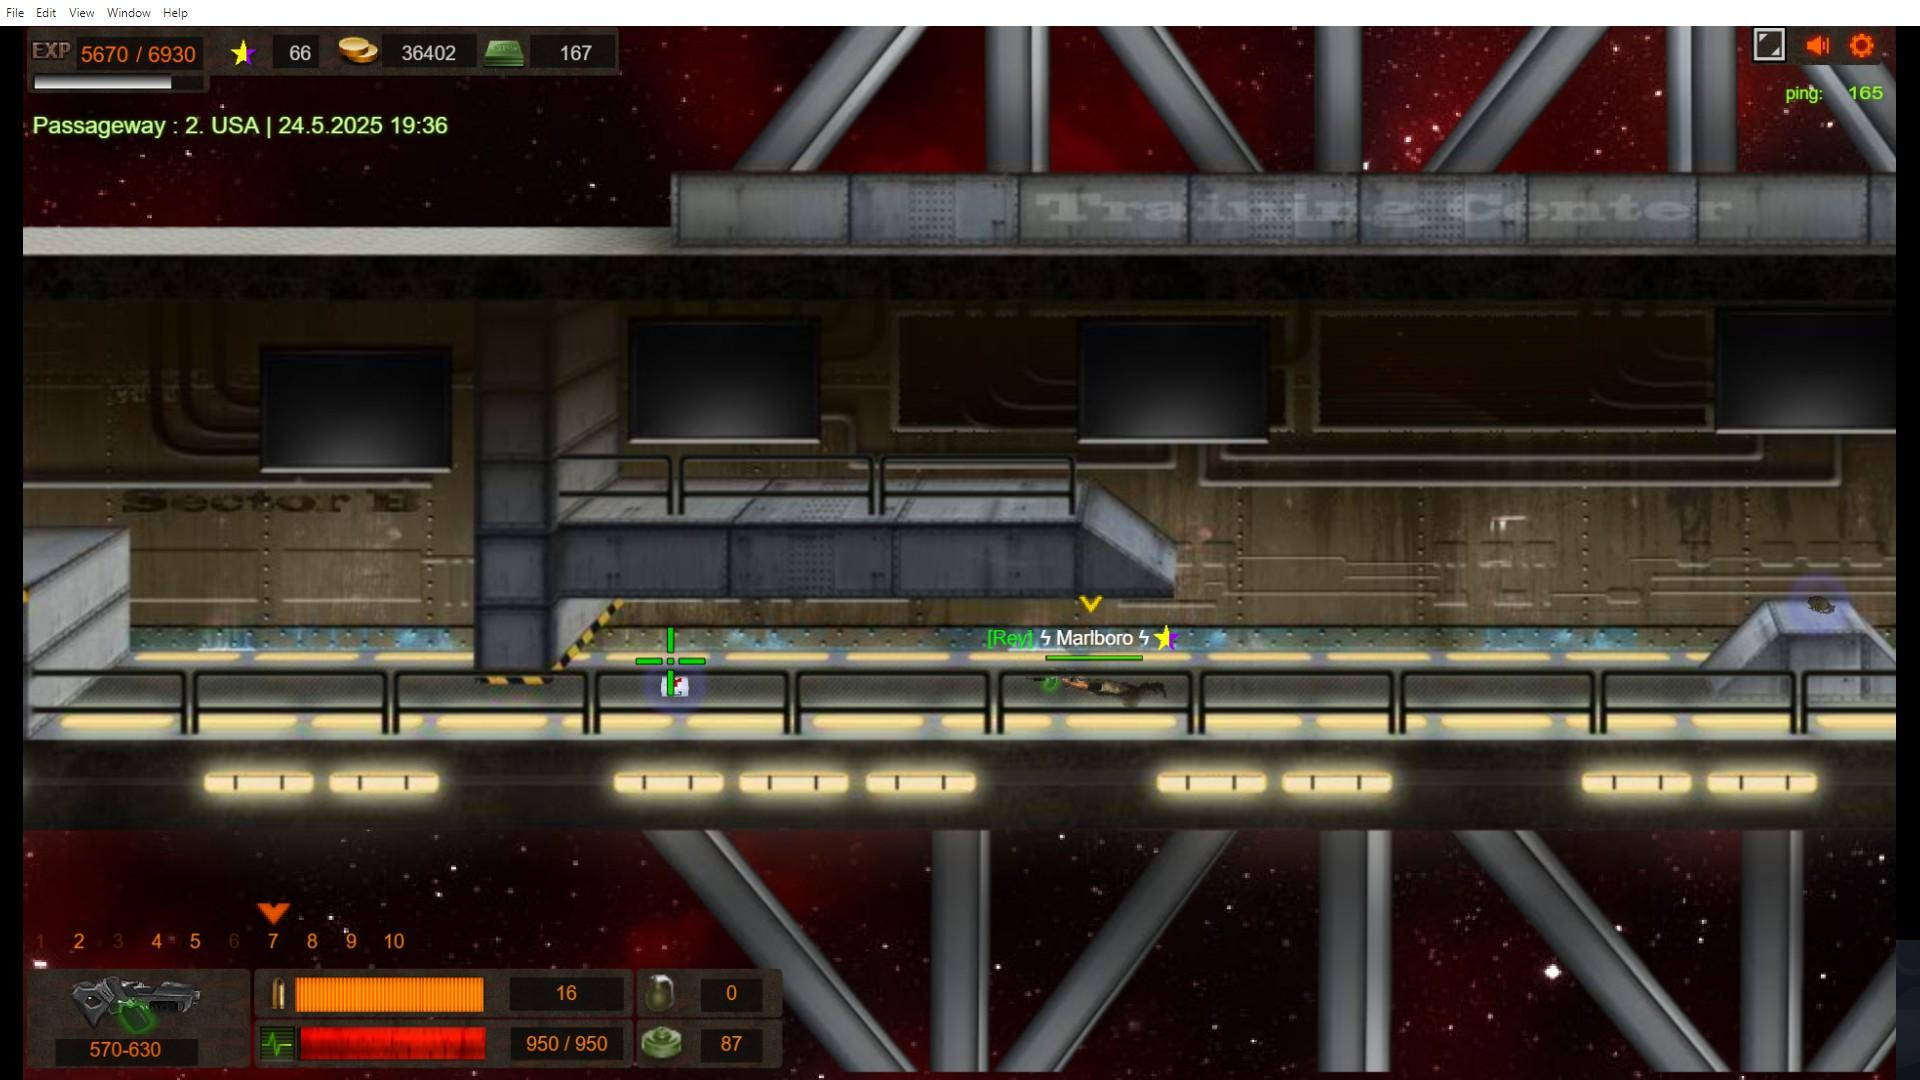enemy: (1063, 674, 1167, 708)
